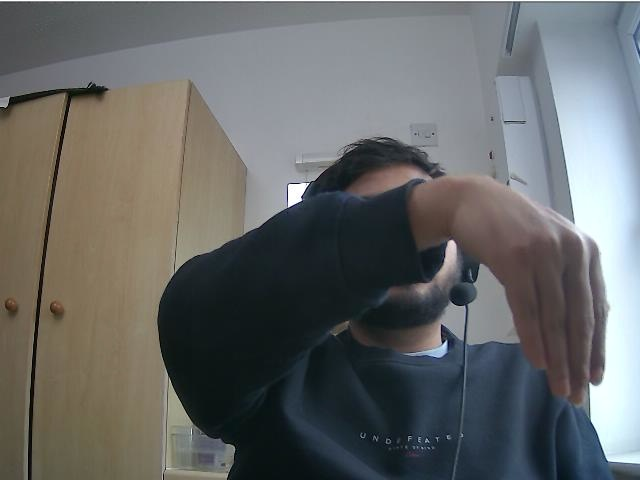down: (500, 192, 609, 405)
